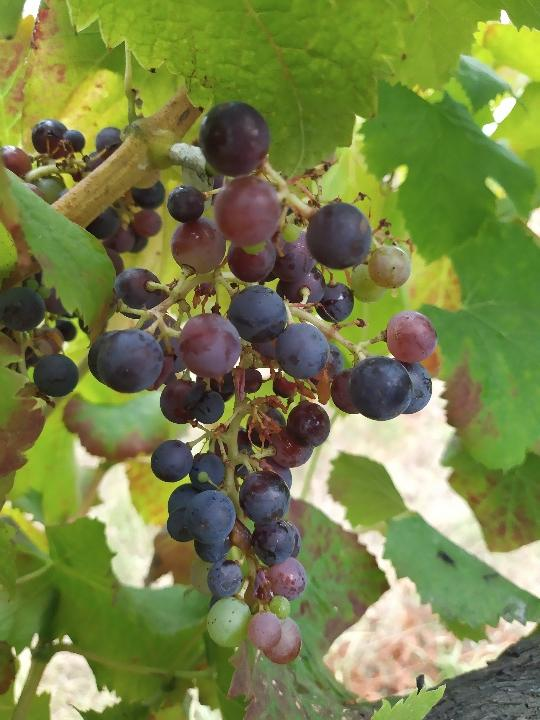grape: (84, 96, 448, 666)
